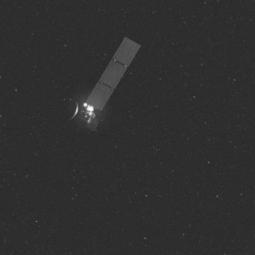earth_observation_sat_1: (55, 36, 148, 142)
